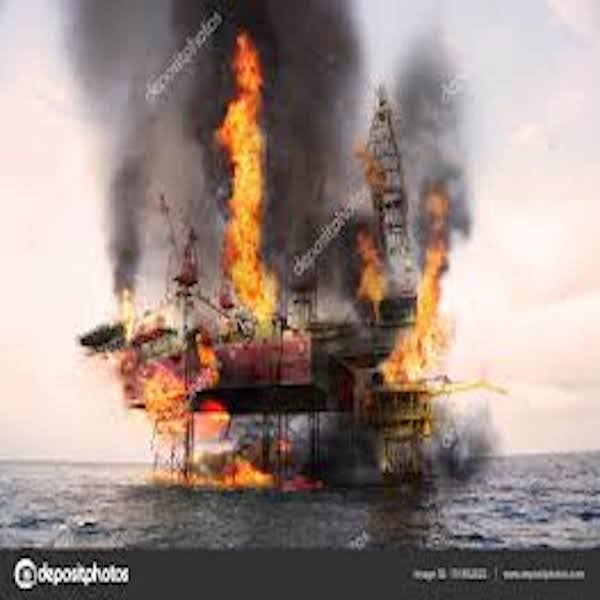fire: (204, 40, 292, 325), (356, 243, 456, 382), (137, 357, 220, 483), (226, 416, 275, 495), (418, 182, 467, 238), (118, 282, 172, 332)
